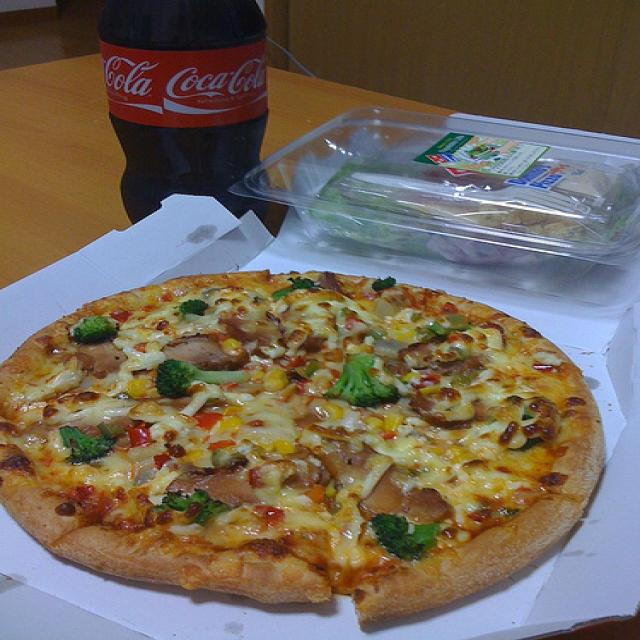Dry Waste: (234, 93, 634, 250), (67, 0, 294, 215)
Wet Waste: (0, 261, 640, 632)
